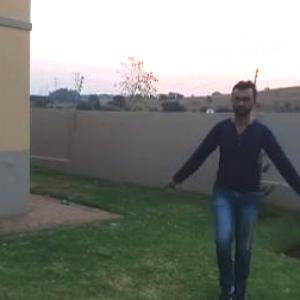land: (174, 80, 299, 299)
